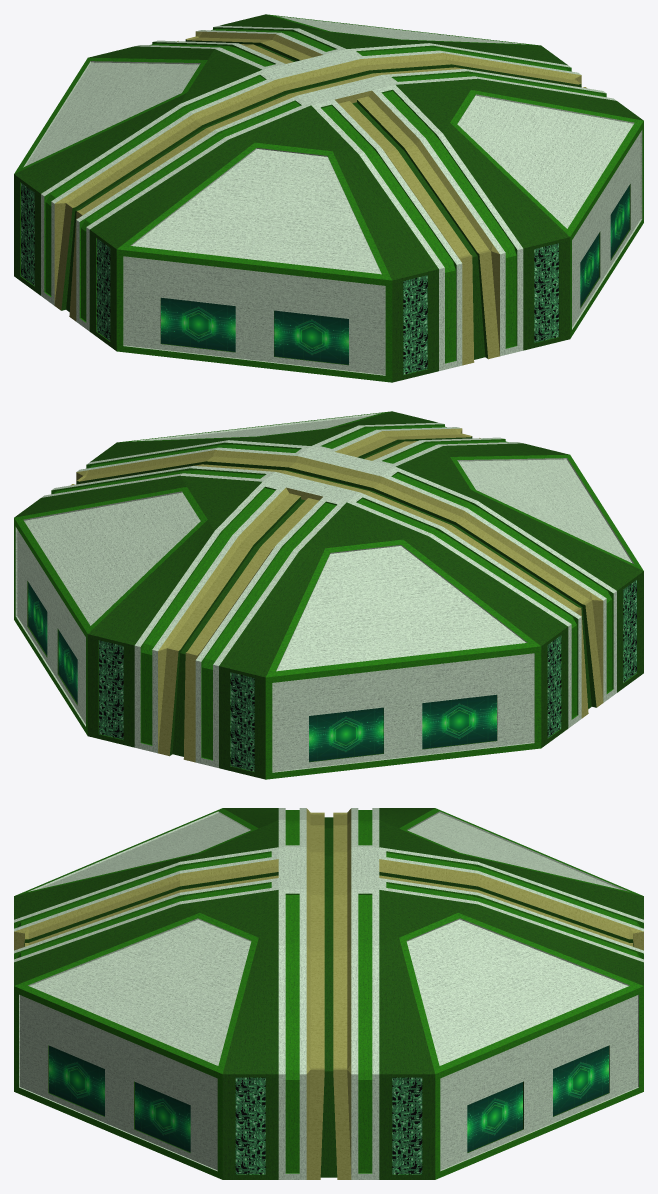
The model's file is auditorium.dae.
3 renders of one model, top to bottom at view 1: azimuth 30°, elevation 25°; view 2: azimuth 150°, elevation 25°; view 3: azimuth 270°, elevation 25°, orthographic. The views are drawn at different scales.
Parts seen in each view (by area): view 1: Material2.002, Material2.004, Material2.003, Material2.001, Material2.006, Material2.007; view 2: Material2.002, Material2.004, Material2.003, Material2.001, Material2.006, Material2.007; view 3: Material2.002, Material2.004, Material2.003, Material2.001, Material2.006, Material2.007.
Part boxes in pixels (x1=…): Material2.002: x1=23, y1=16, x2=642, y2=375; Material2.004: x1=14, y1=14, x2=643, y2=382; Material2.003: x1=14, y1=14, x2=643, y2=382; Material2.001: x1=54, y1=31, x2=586, y2=365; Material2.006: x1=161, y1=185, x2=629, y2=364; Material2.007: x1=21, y1=183, x2=558, y2=374; Material2.002: x1=15, y1=413, x2=634, y2=772; Material2.004: x1=14, y1=411, x2=643, y2=779; Material2.003: x1=14, y1=411, x2=643, y2=779; Material2.001: x1=71, y1=428, x2=603, y2=762; Material2.006: x1=28, y1=582, x2=496, y2=761; Material2.007: x1=99, y1=580, x2=636, y2=771; Material2.002: x1=14, y1=808, x2=643, y2=1179; Material2.004: x1=14, y1=808, x2=643, y2=1179; Material2.003: x1=14, y1=808, x2=643, y2=1179; Material2.001: x1=14, y1=808, x2=643, y2=1179; Material2.006: x1=49, y1=1045, x2=608, y2=1152; Material2.007: x1=235, y1=1077, x2=422, y2=1174.
Size of the model in its own units: 1081 by 1081 by 337.
Materials: 9 (7 with a texture image).
